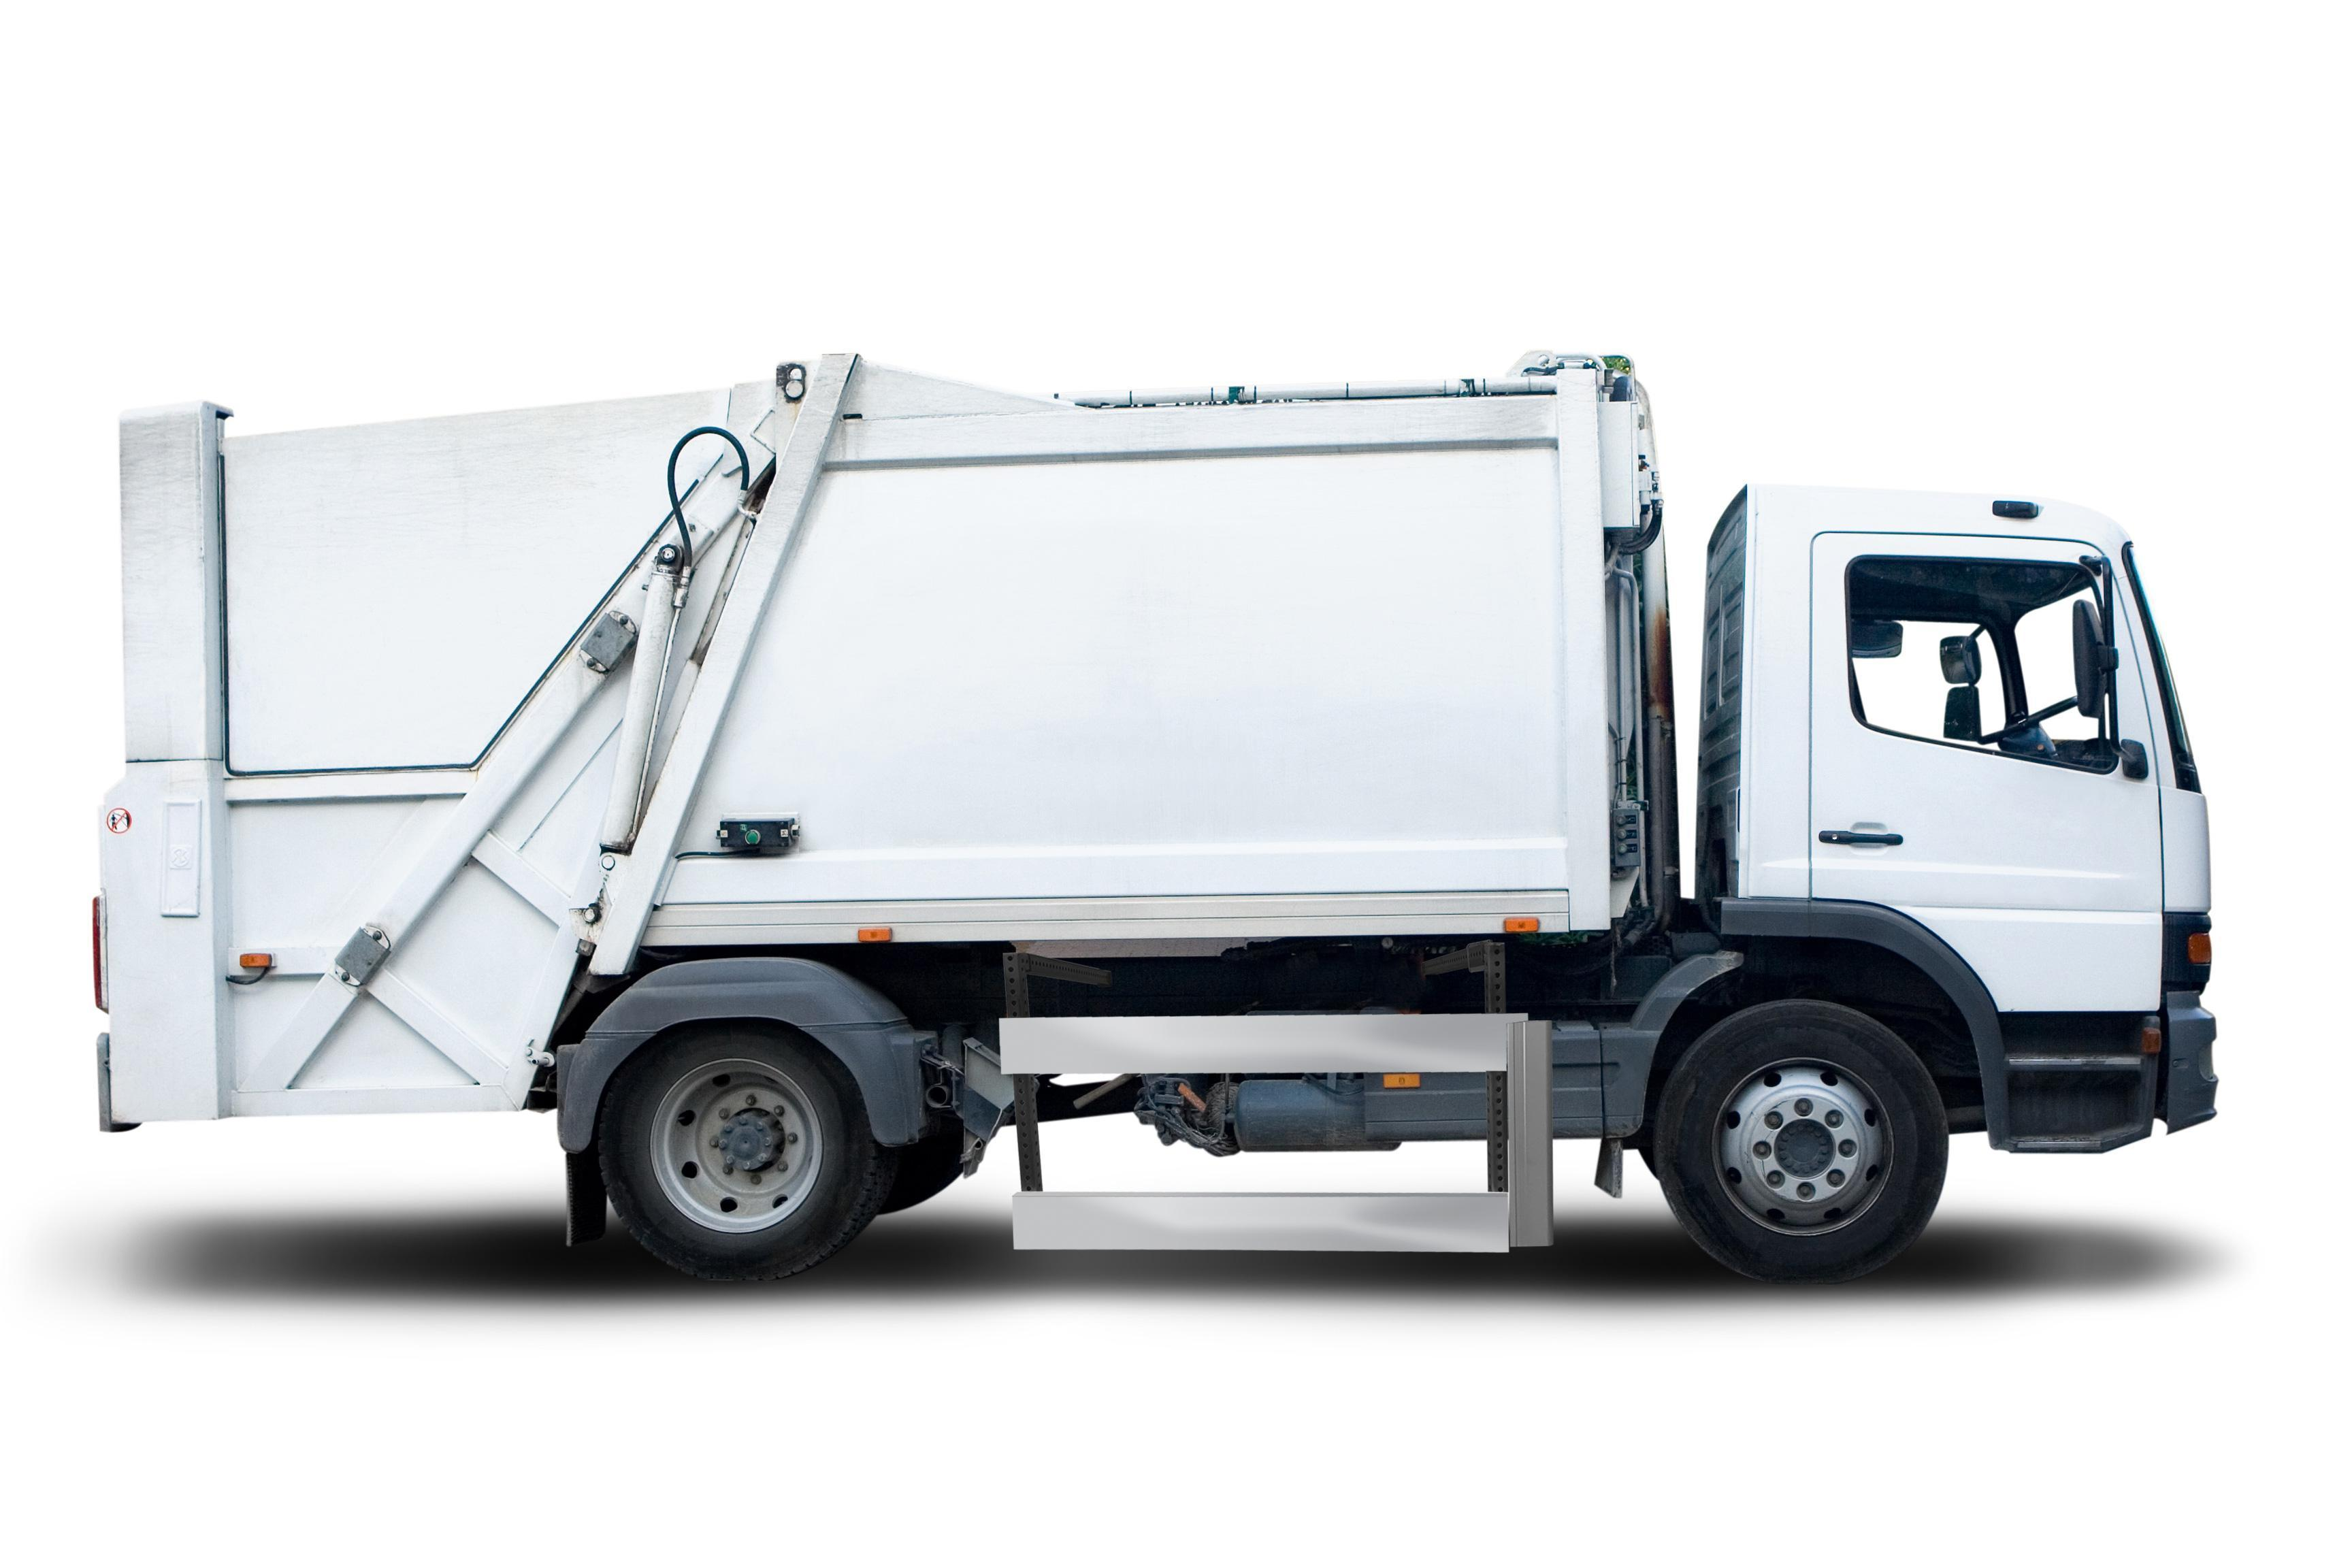truck: (79, 320, 2237, 1423)
